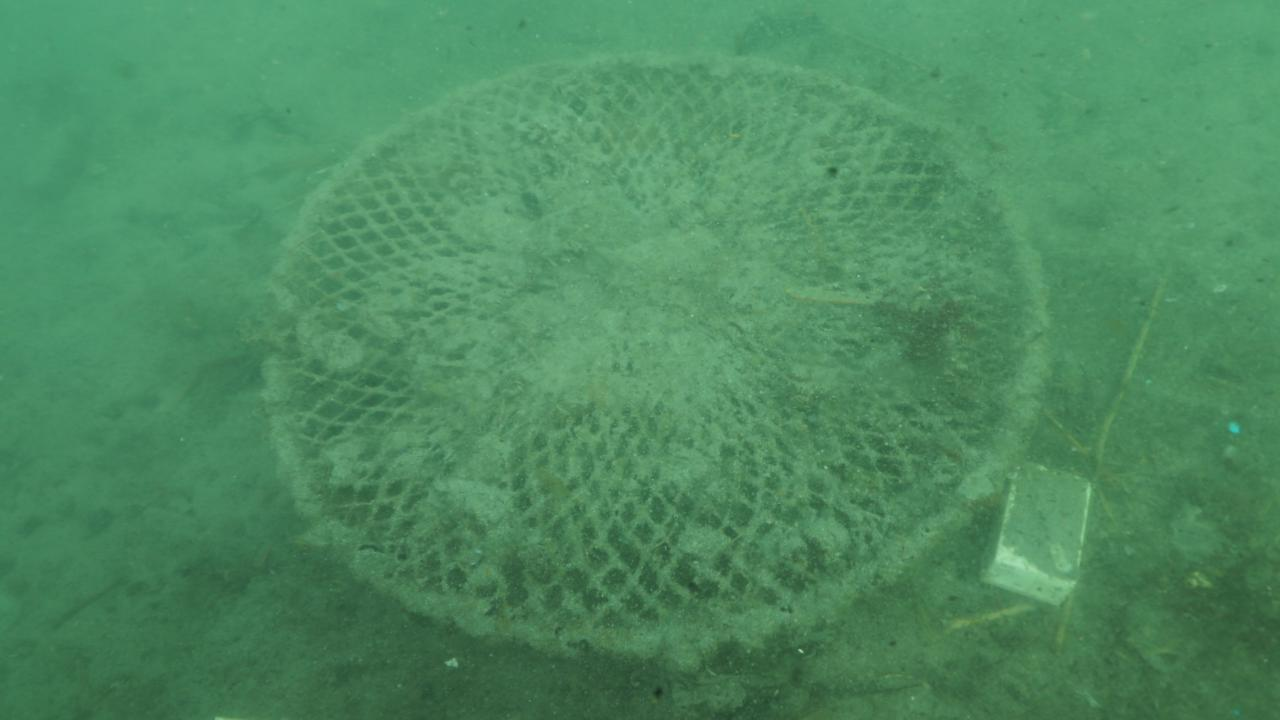circular fish trap: (254, 43, 1054, 667)
